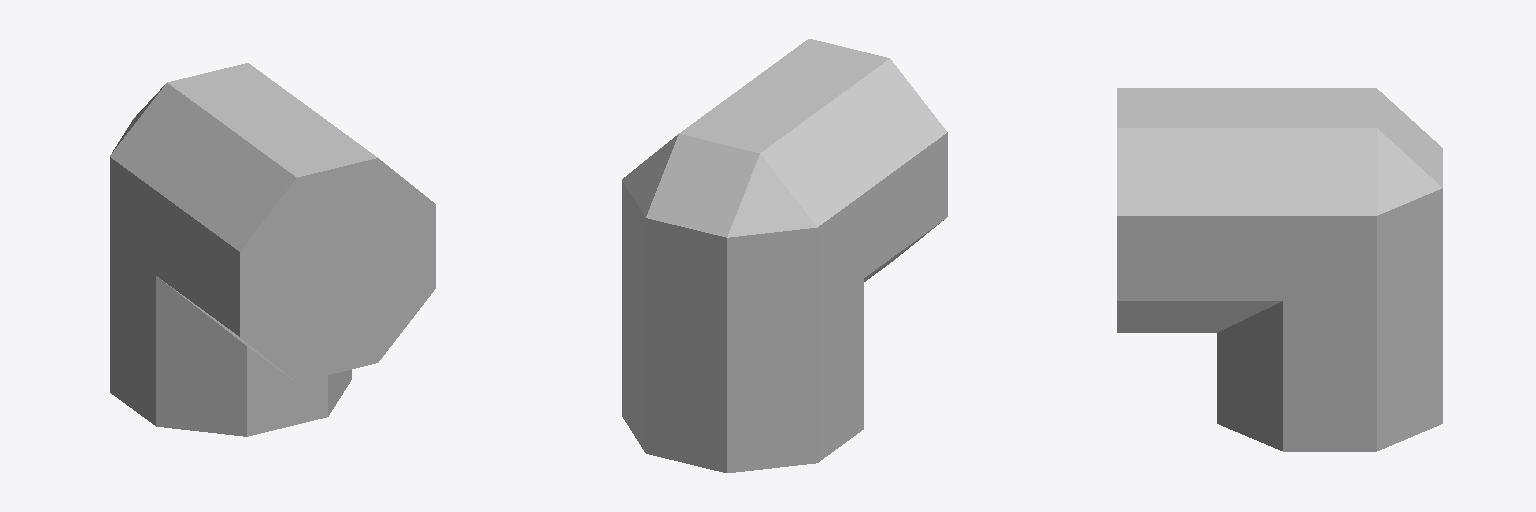
File: pcity_nodes_concrete_pillar_L_junction.obj
3 renders of one model, left to right at view 1: azimuth 30°, elevation 25°; view 2: azimuth 150°, elevation 25°; view 3: azimuth 270°, elevation 25°, orthographic.
Visible parts, largest first — view 1: Cylinder.003; view 2: Cylinder.003; view 3: Cylinder.003.
Part boxes in pixels (x1,y1,x2,y2): Cylinder.003: (110,63,435,436); Cylinder.003: (622,39,947,472); Cylinder.003: (1117,88,1442,451).
Size of the model in its own units: 0.5308 by 0.7654 by 0.7654.